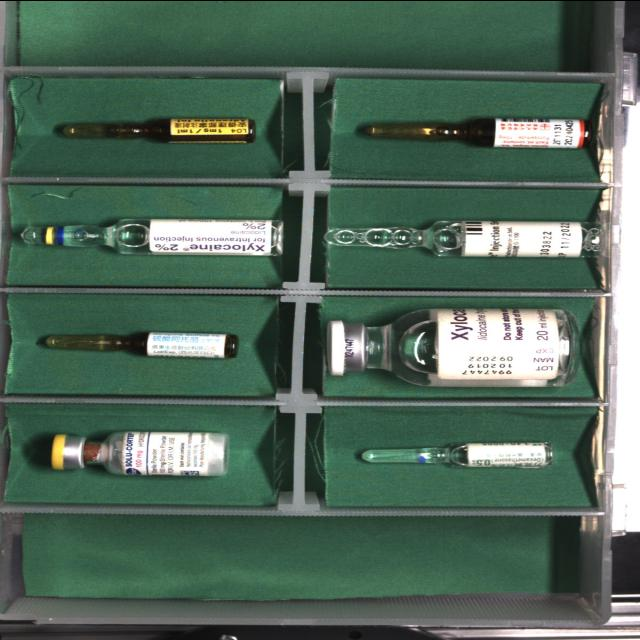Vials: (326, 308, 580, 387), (48, 430, 228, 475)
